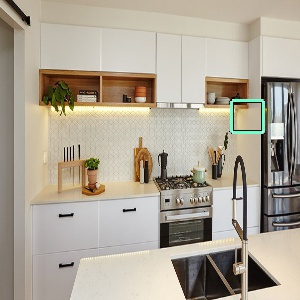square: (230, 98, 266, 134)
